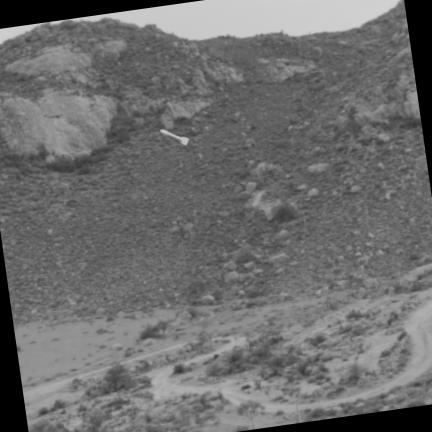Shahed: (160, 129, 187, 144)
